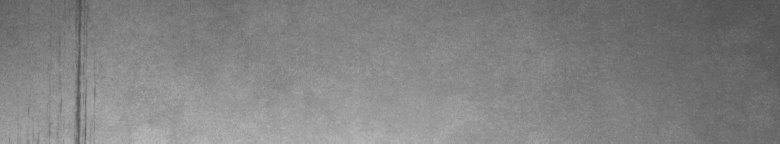hd: (69, 4, 88, 136)
